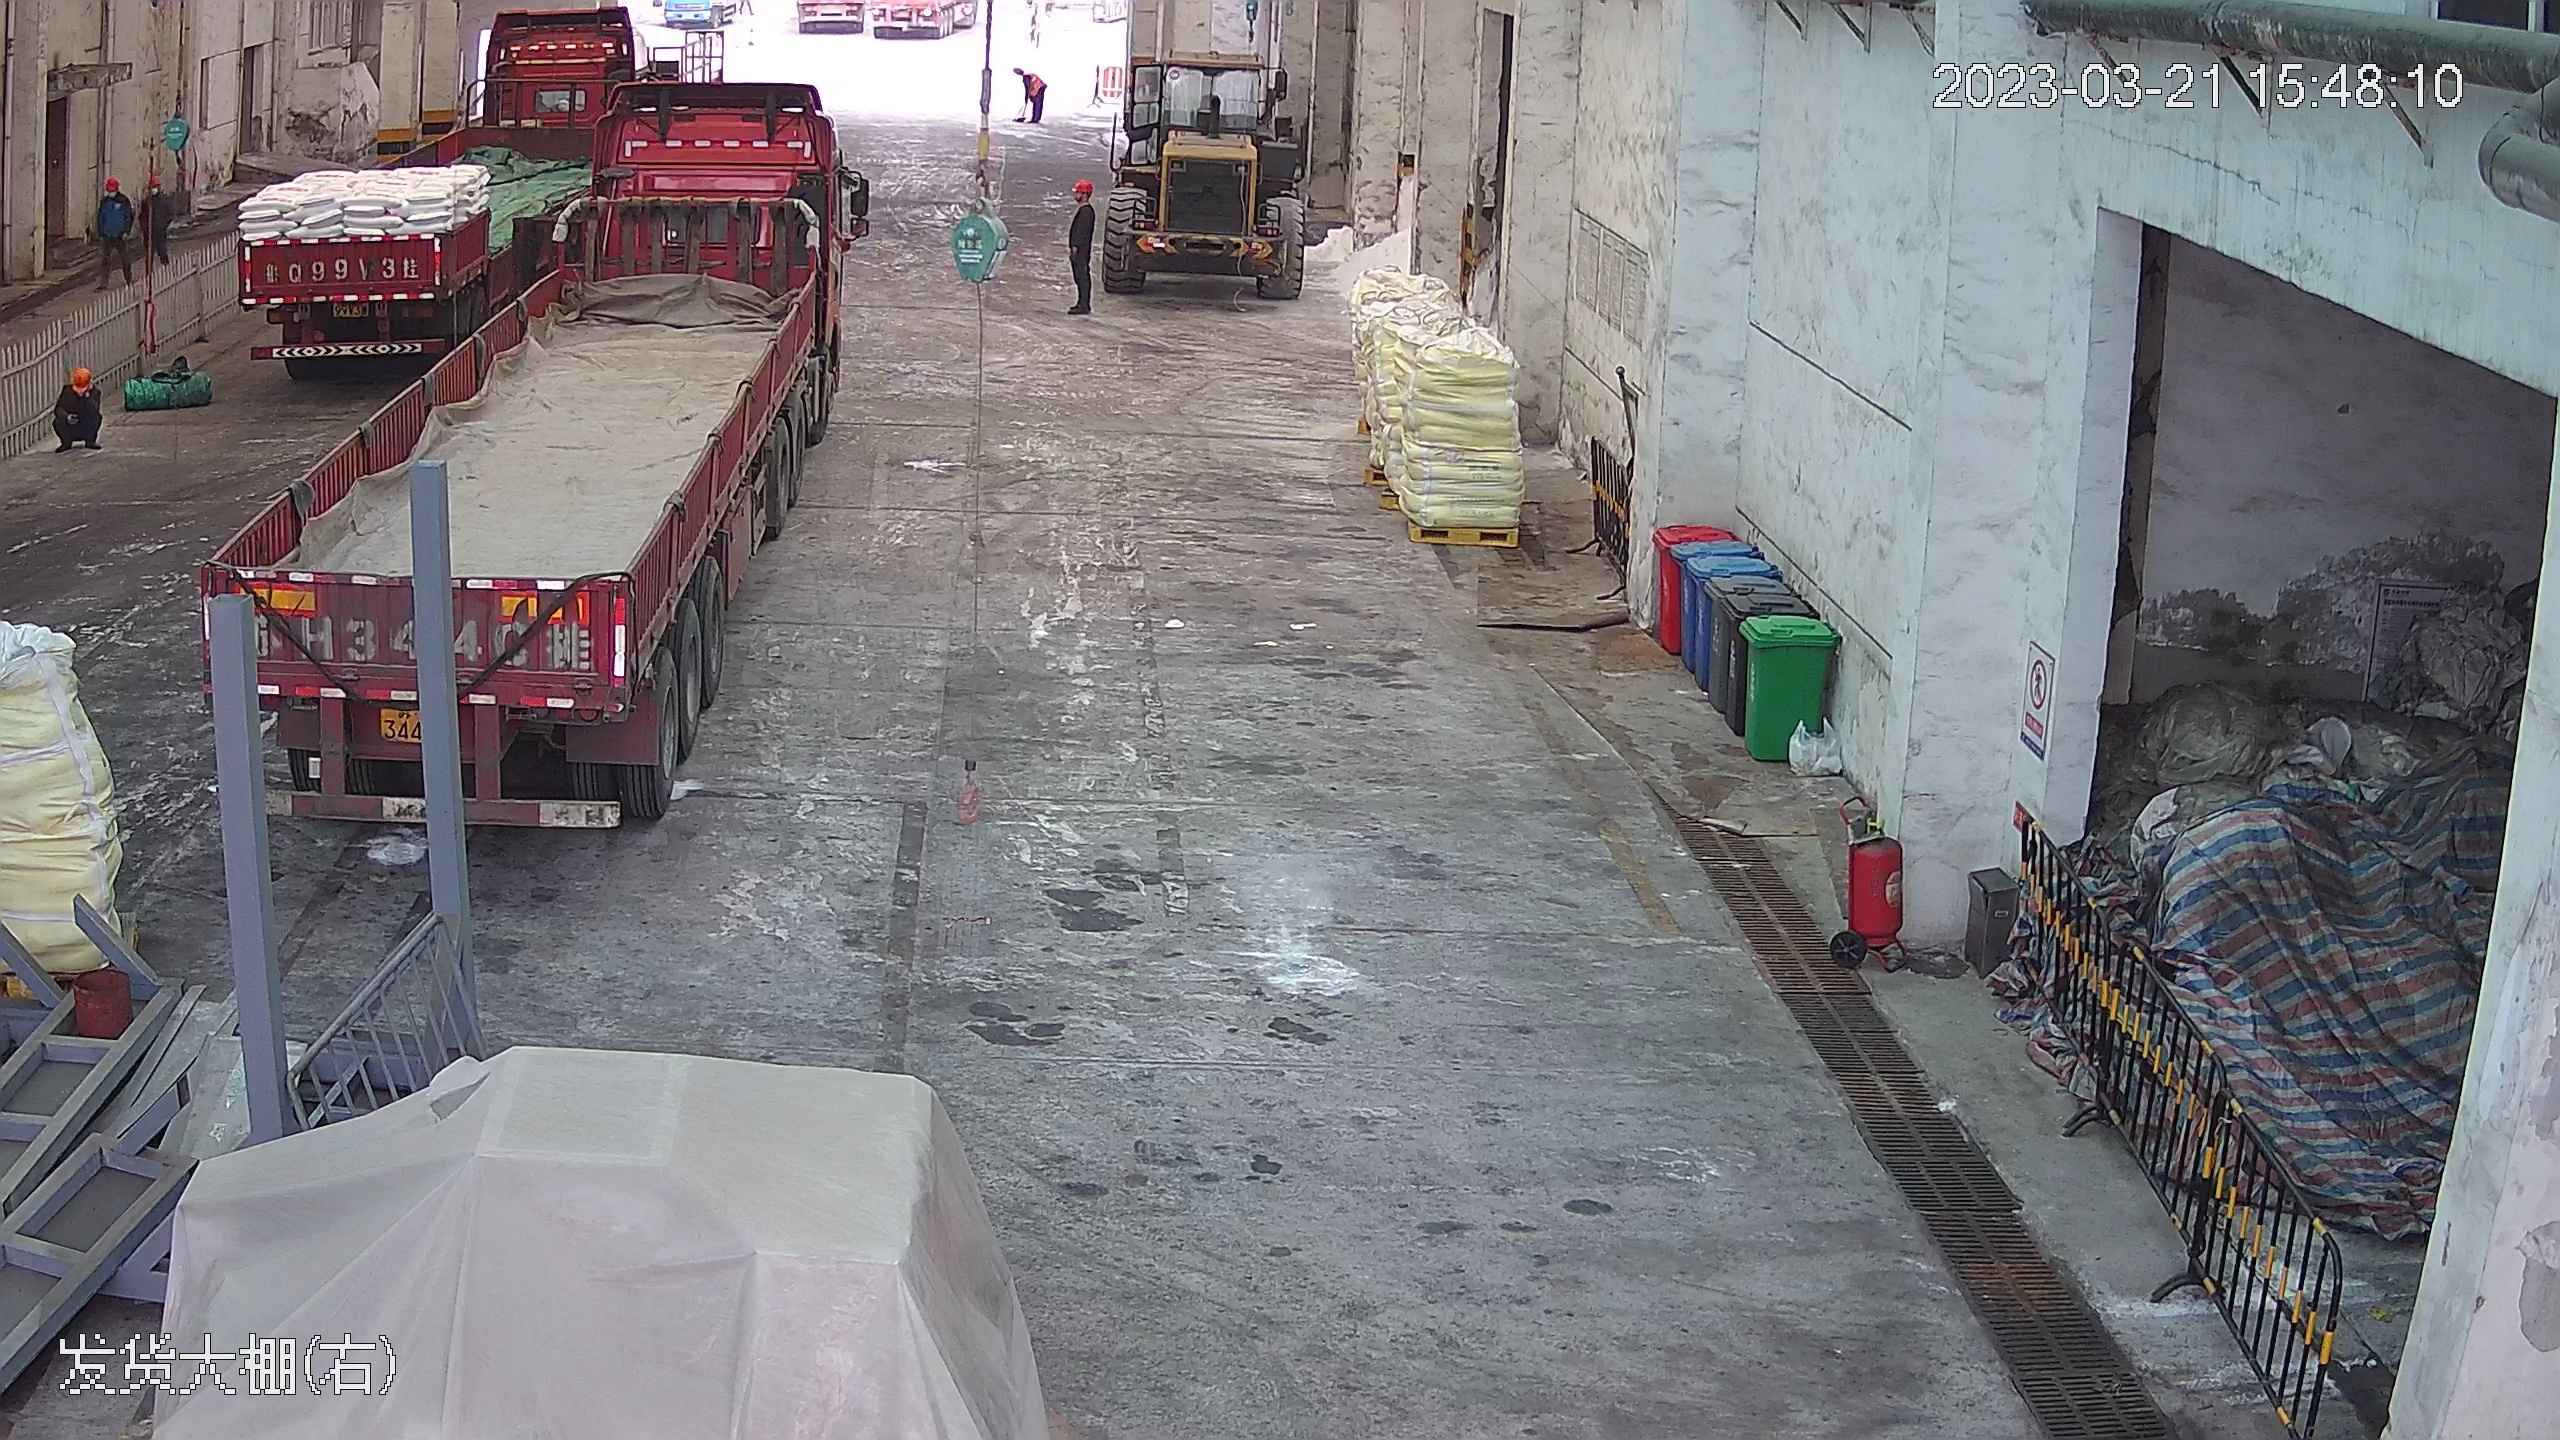head: (56, 366, 95, 413), (1066, 176, 1101, 222), (97, 174, 129, 218), (143, 174, 173, 213)
helmet: (67, 364, 92, 384), (101, 175, 122, 195), (1074, 179, 1095, 196), (146, 175, 161, 188)
people: (1060, 174, 1106, 314), (90, 174, 136, 289), (49, 360, 99, 455), (143, 178, 179, 267), (1018, 64, 1049, 126)
truck: (216, 33, 860, 845), (215, 11, 593, 377)
